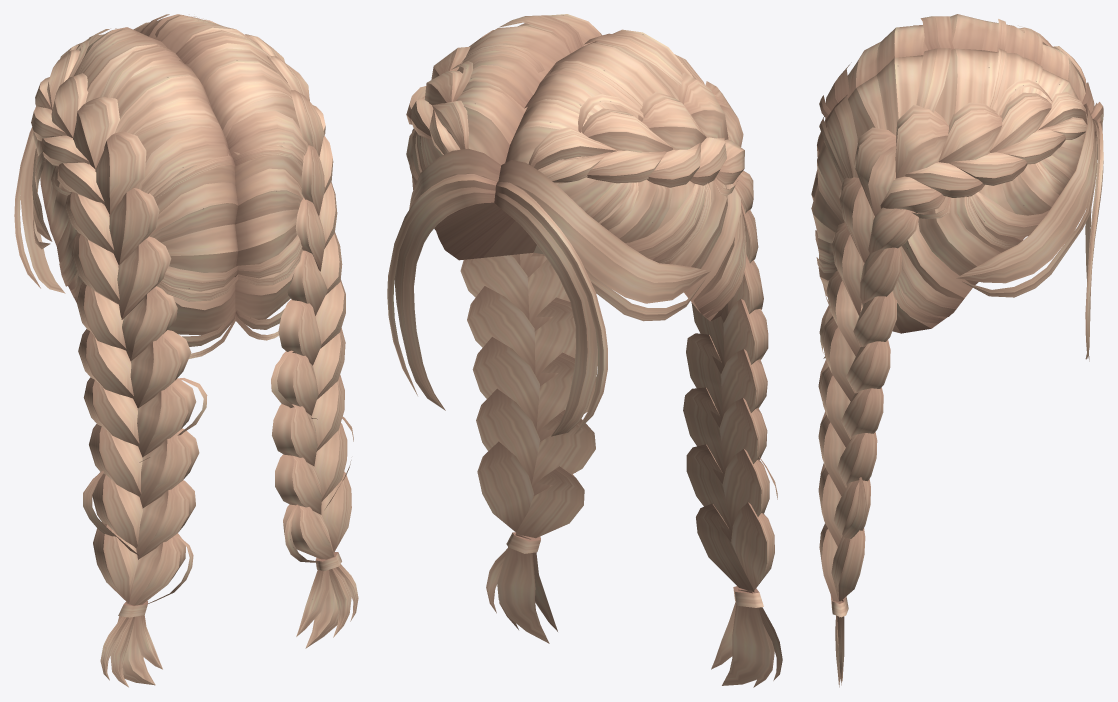
The picture shows the model from 3 angles, left to right: view 1: azimuth 30°, elevation 25°; view 2: azimuth 150°, elevation 25°; view 3: azimuth 270°, elevation 25°; orthographic projection. The views are drawn at different scales.
Visible parts, largest first — view 1: geometry_0; view 2: geometry_0; view 3: geometry_0.
Part boxes in pixels (<box>): geometry_0: <box>14,14,358,687</box>; geometry_0: <box>387,14,782,687</box>; geometry_0: <box>811,14,1103,687</box>.
Bounding box in the file's own units: 1.52 × 3.15 × 1.38.
1 material, 1 textured.
